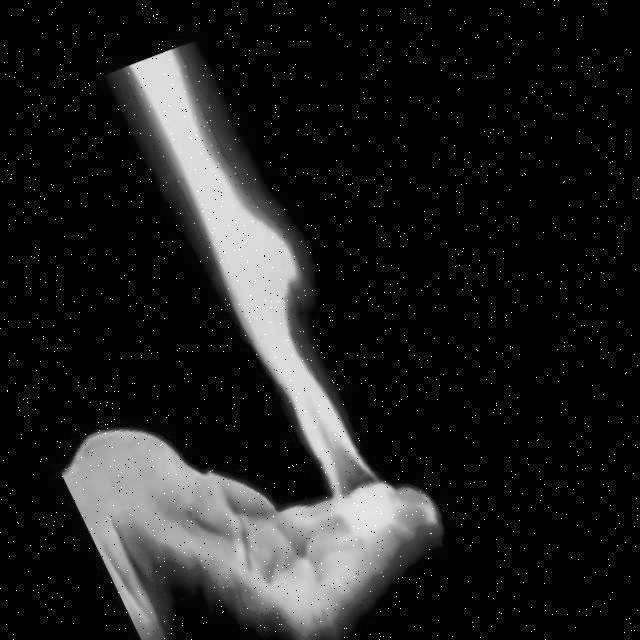Fire: (95, 33, 416, 555)
